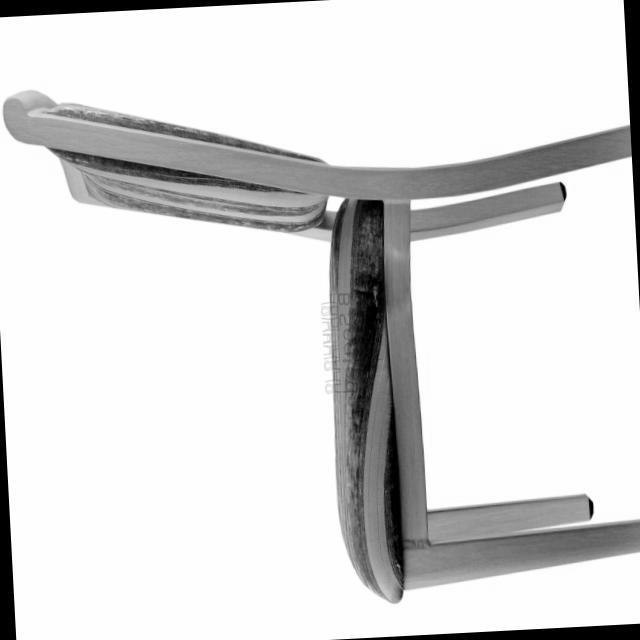chair: (0, 52, 640, 621)
